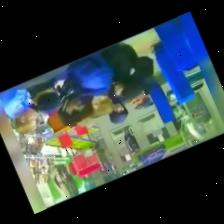person: (67, 51, 112, 114), (16, 64, 67, 113), (101, 42, 141, 100), (0, 87, 35, 133), (56, 81, 91, 126), (131, 56, 153, 109), (108, 86, 127, 123), (122, 126, 139, 152)
